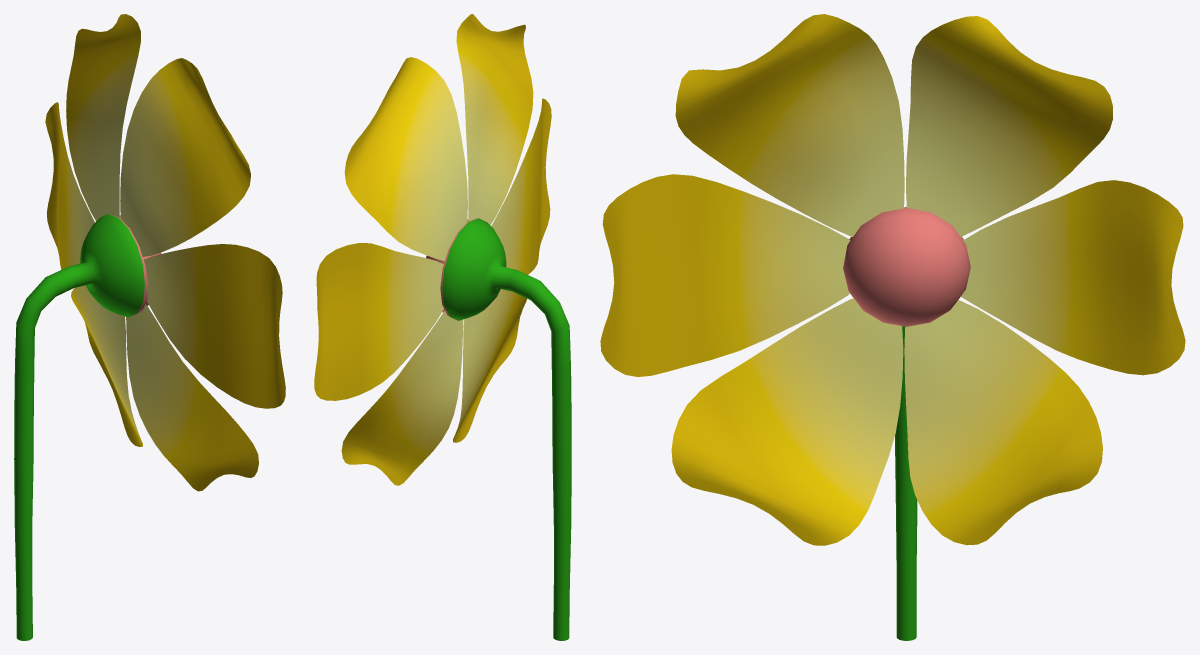
The model's file is Flower 2.obj.
3 views of the same model, side by side, from view 1: azimuth 30°, elevation 25°; view 2: azimuth 150°, elevation 25°; view 3: azimuth 270°, elevation 25° (orthographic). The views are drawn at different scales.
Visible parts, largest first — view 1: Flower_2; view 2: Flower_2; view 3: Flower_2.
Part boxes in pixels (<box>): Flower_2: <box>14,14,285,640</box>; Flower_2: <box>314,14,571,640</box>; Flower_2: <box>600,14,1185,640</box>.
Size of the model in its own units: 1.52 by 5.44 by 4.12.
3 materials, 3 textured.
